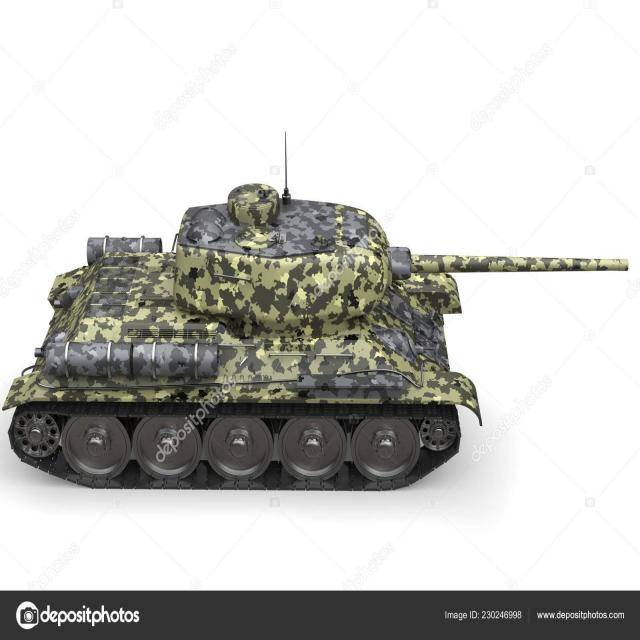Tanks: (13, 181, 489, 512)
